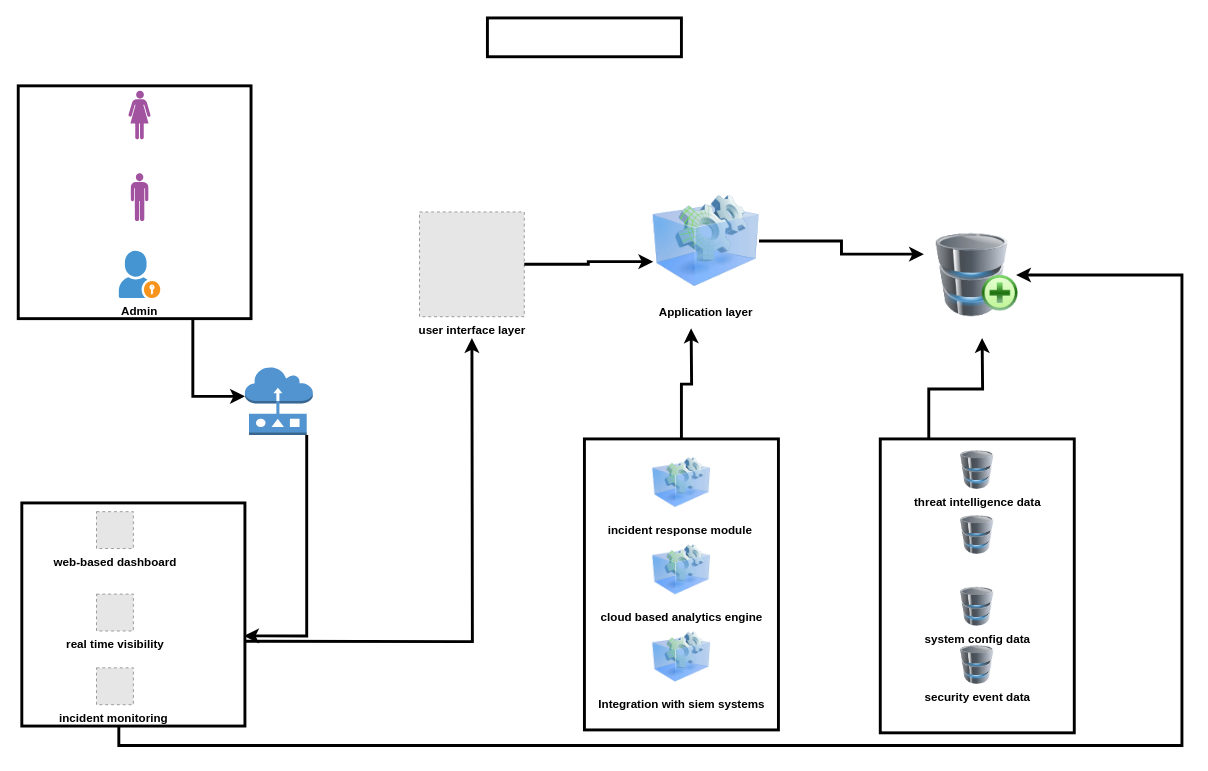
Some shapes in this 1208 by 771 pixel diagram are drawn without their labels. Grey dashed boxes stand in for pictures. Here are the shapes that lost their labels. From the top down, the centre of each, then its label:
(x=583, y=37): CYBER GUARD
(x=139, y=114): Enterprise
(x=139, y=197): Government
(x=976, y=274): Data Layer
(x=278, y=400): Sensor
(x=977, y=534): Network logs
